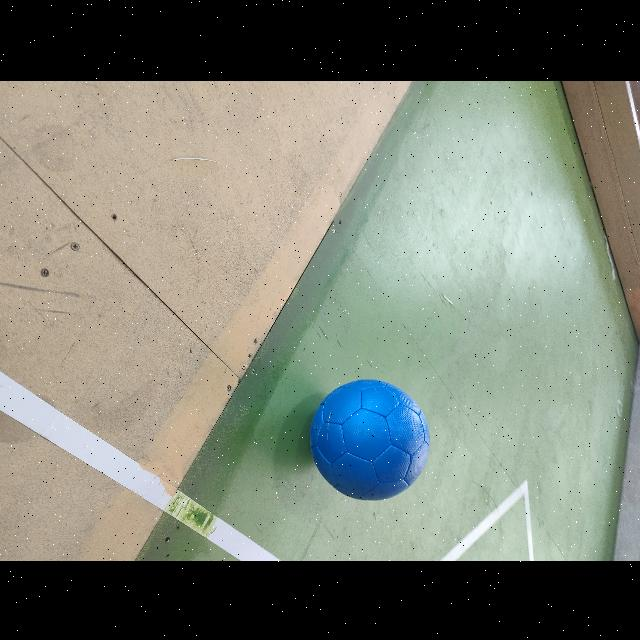B: (310, 378, 430, 499)
